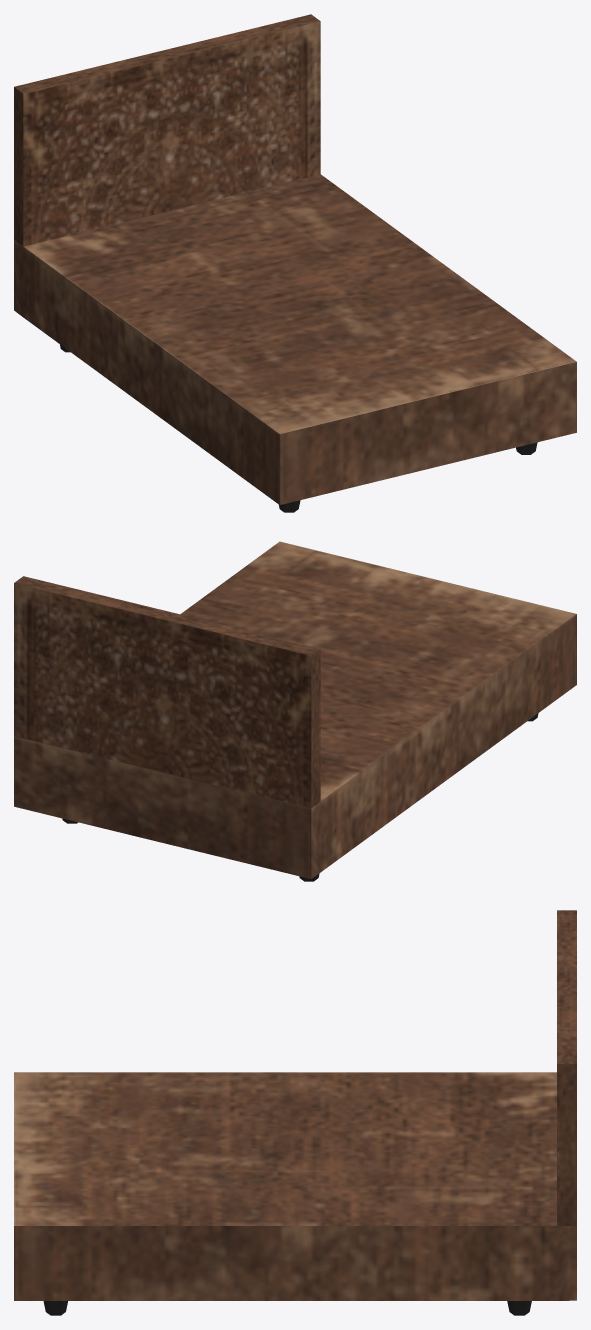
Rendered from prop_bedframe.obj.
3 renders of one model, top to bottom at view 1: azimuth 30°, elevation 25°; view 2: azimuth 150°, elevation 25°; view 3: azimuth 270°, elevation 25°, orthographic. The views are drawn at different scales.
Parts seen in each view (by area): view 1: Props_Bed; view 2: Props_Bed; view 3: Props_Bed.
Part boxes in pixels (<box>): Props_Bed: <box>14,14,576,512</box>; Props_Bed: <box>14,541,576,881</box>; Props_Bed: <box>14,910,576,1315</box>.
Bounding box in the file's own units: 1.34 × 1.07 × 2.07.
1 material, 1 textured.
